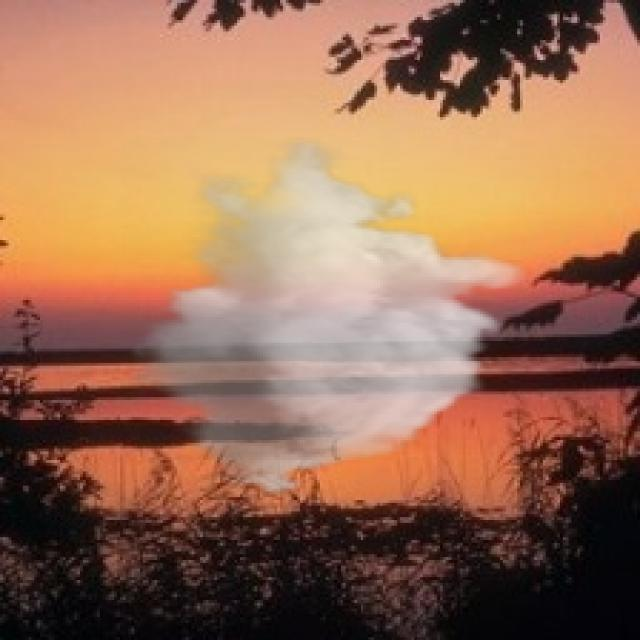smoke: (123, 137, 531, 497)
